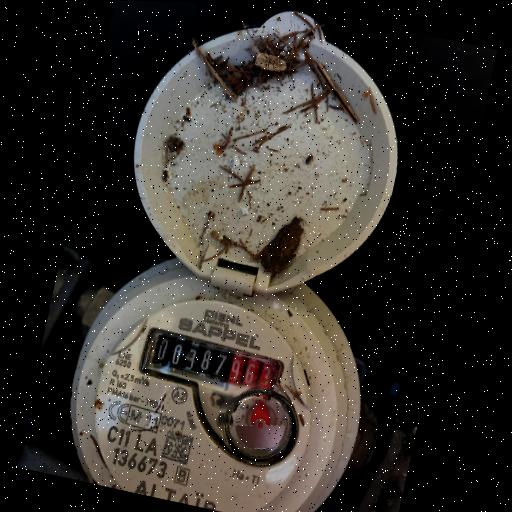0: (152, 332, 174, 367), (167, 338, 188, 370)
3: (180, 341, 202, 374), (258, 358, 277, 390)
6: (241, 357, 261, 388)
7: (211, 349, 230, 383)
8: (196, 346, 215, 378)
9: (227, 353, 246, 385)
border_water_meter_number: (141, 330, 299, 405)
